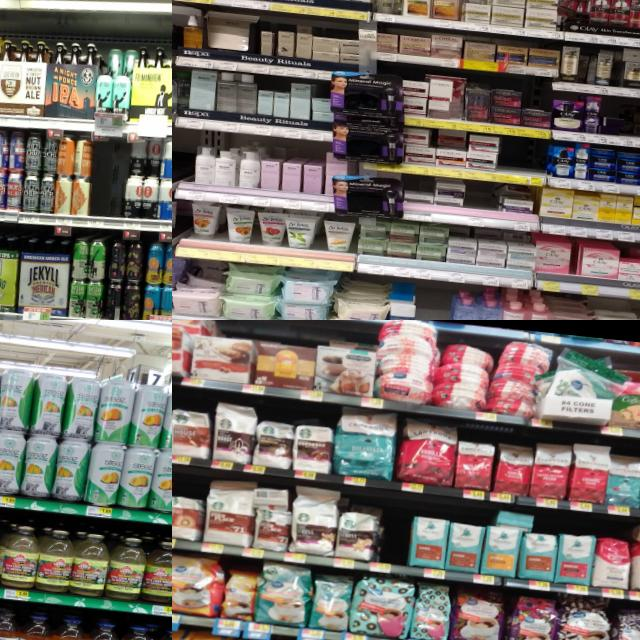100% O.O.S: (381, 502, 412, 574)
100- O.O.S: (88, 145, 127, 230), (499, 136, 547, 186), (462, 181, 492, 227), (413, 285, 452, 320)
